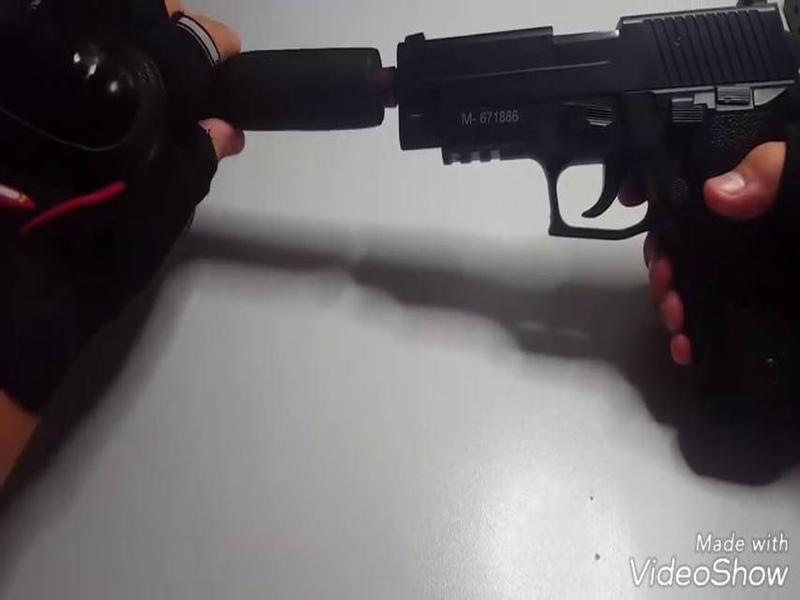Pistola: (394, 4, 800, 420)
